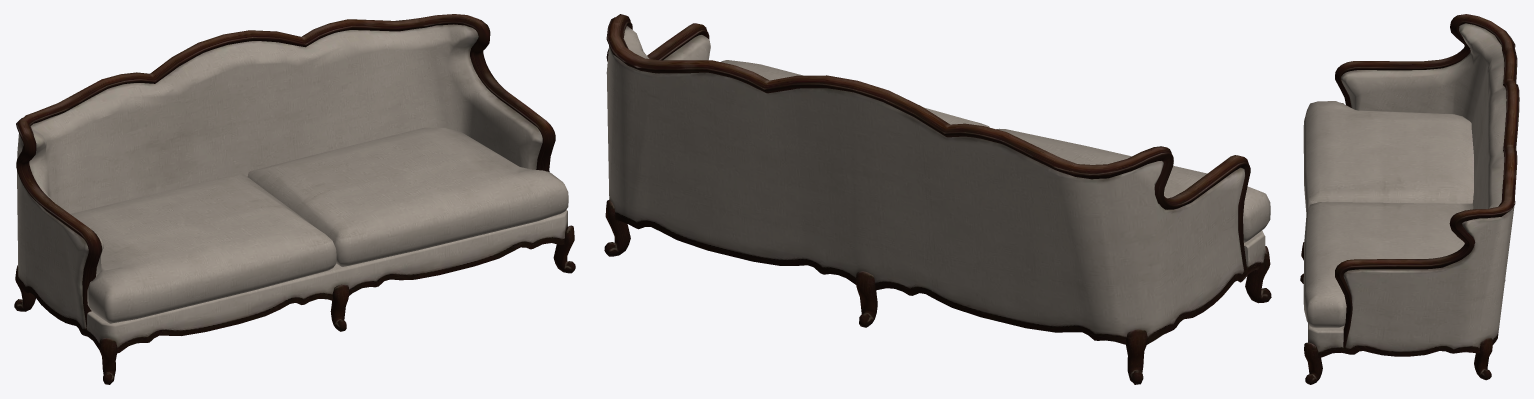
Rendered from Sofa_01.glb.
3 renders of one model, left to right at view 1: azimuth 30°, elevation 25°; view 2: azimuth 150°, elevation 25°; view 3: azimuth 270°, elevation 25°, orthographic. The views are drawn at different scales.
Parts seen in each view (by area): view 1: Sofa_01; view 2: Sofa_01; view 3: Sofa_01.
Boxes of the visible parts, x1,y1,x2,y2 form: Sofa_01: (14,14,575,384); Sofa_01: (604,14,1271,384); Sofa_01: (1300,14,1519,384).
Size of the model in its own units: 2 by 0.8501 by 0.9.
Materials: 1 (1 with a texture image).
